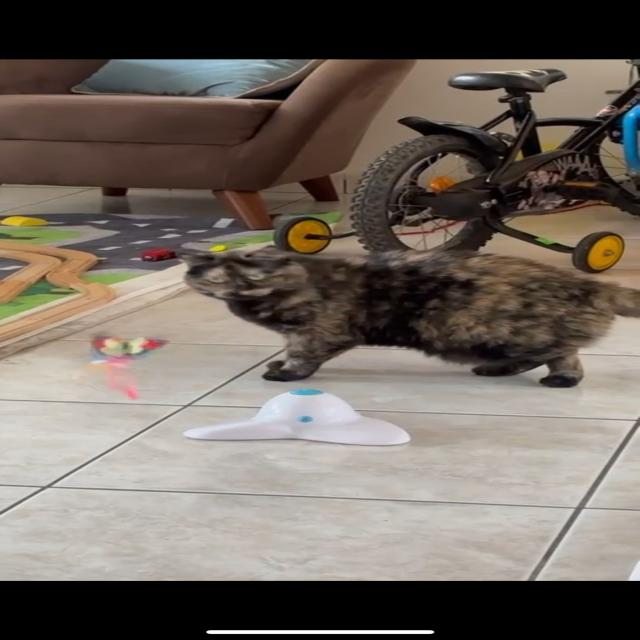authorized: (178, 244, 639, 388)
